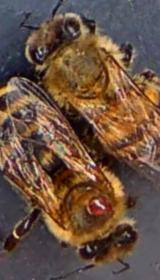varroa_mite: (76, 189, 113, 219)
